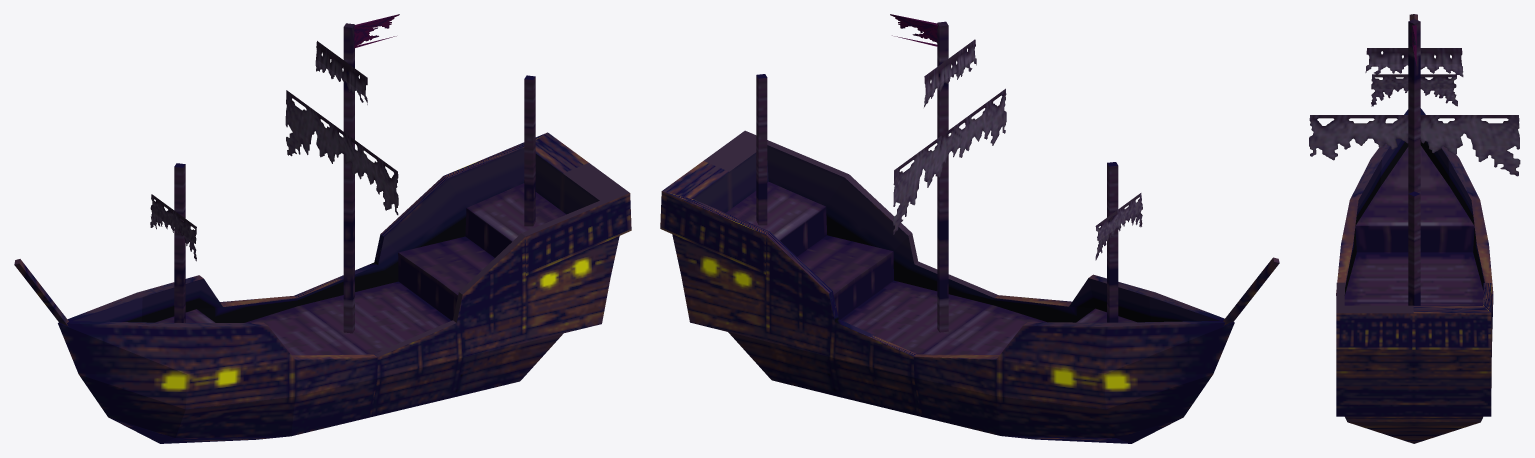
File: Ghost Ship (Kalidus Channel).obj
3 views of the same model, side by side, from view 1: azimuth 30°, elevation 25°; view 2: azimuth 150°, elevation 25°; view 3: azimuth 270°, elevation 25° (orthographic). The views are drawn at different scales.
Visible parts, largest first — view 1: daa00; view 2: daa00; view 3: daa00.
Part boxes in pixels (<box>): daa00: <box>14,14,631,443</box>; daa00: <box>660,14,1279,443</box>; daa00: <box>1309,14,1520,443</box>.
Size of the model in its own units: 2.86 by 1.85 by 0.9727.
2 materials, 2 textured.
